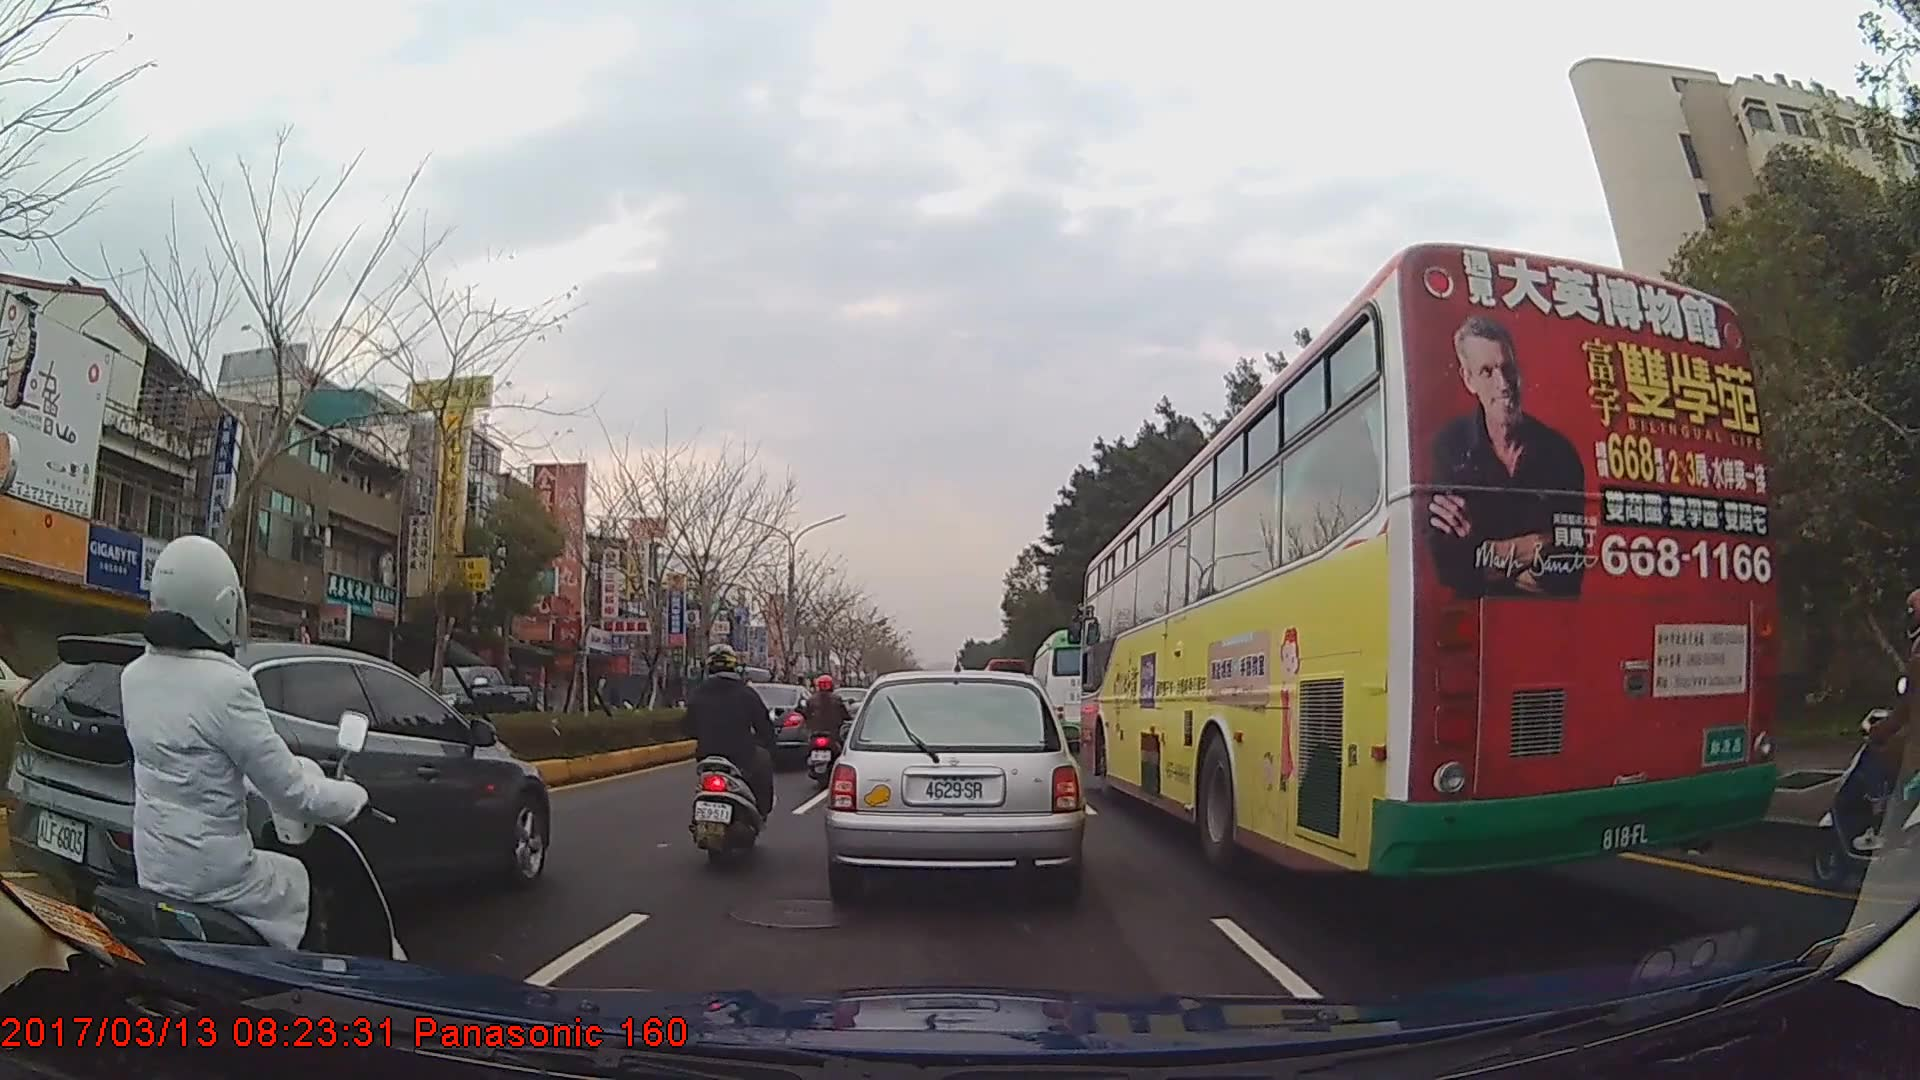rider: (79, 535, 407, 1043), (1811, 592, 1920, 887), (680, 644, 777, 868), (800, 676, 852, 790)
vehicle: (1082, 238, 1779, 880), (0, 624, 552, 922), (825, 670, 1082, 894), (1028, 628, 1115, 749), (408, 663, 532, 737), (722, 682, 819, 766)
